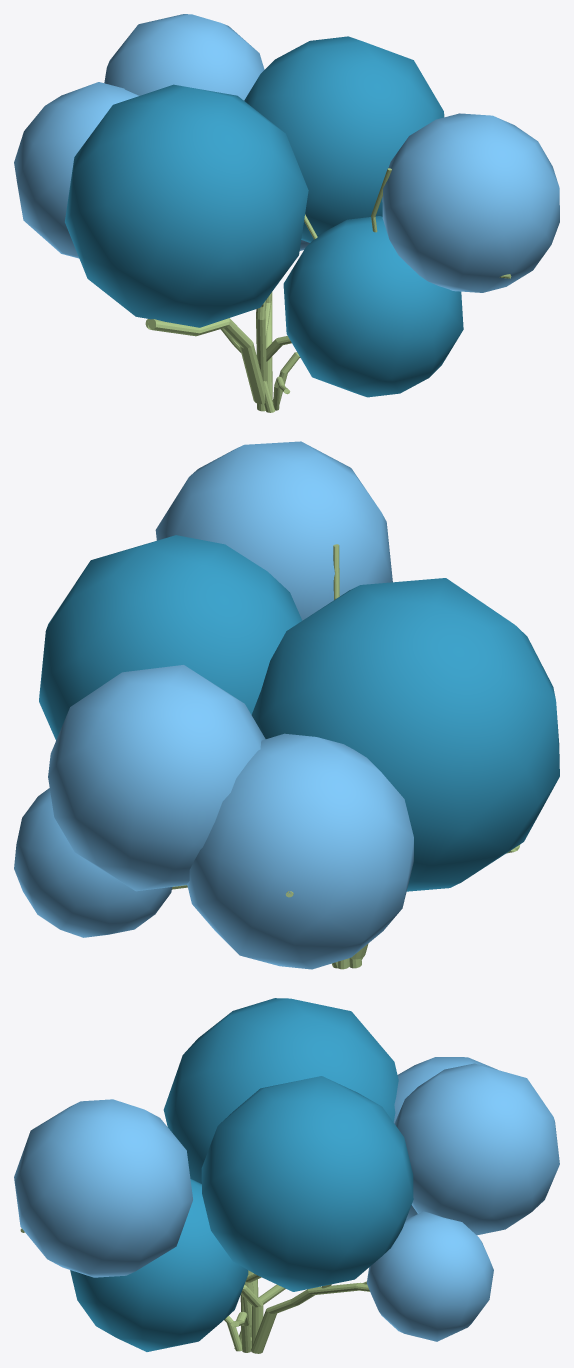
File: tree3_smoother.fbx
The picture shows the model from 3 angles, top to bottom: view 1: azimuth 30°, elevation 25°; view 2: azimuth 150°, elevation 25°; view 3: azimuth 270°, elevation 25°; orthographic projection. The views are drawn at different scales.
Visible parts, largest first — view 1: pPlatonic11, pPlatonic14, pPlatonic13, pPlatonic10, pPlatonic15, pPlatonic12, Branch4; view 2: pPlatonic11, pPlatonic12, pPlatonic15, pPlatonic10, pPlatonic14, pPlatonic16, Branch4; view 3: pPlatonic10, pPlatonic14, pPlatonic15, pPlatonic11, pPlatonic13, pPlatonic16, Branch4, pPlatonic12.
Part boxes in pixels (box(x1,y1,x2,y2)): pPlatonic11: box(65, 84, 308, 327); pPlatonic14: box(382, 113, 559, 292); pPlatonic13: box(283, 216, 463, 397); pPlatonic10: box(244, 36, 444, 242); pPlatonic15: box(104, 14, 264, 100); pPlatonic12: box(14, 82, 138, 258); Branch4: box(145, 168, 511, 412); pPlatonic11: box(251, 578, 559, 891); pPlatonic12: box(187, 733, 413, 969); pPlatonic15: box(48, 665, 265, 891); pPlatonic10: box(39, 535, 302, 740); pPlatonic14: box(155, 441, 392, 620); pPlatonic16: box(14, 788, 172, 937); Branch4: box(172, 544, 520, 969); pPlatonic10: box(201, 1076, 413, 1291); pPlatonic14: box(14, 1099, 192, 1277); pPlatonic15: box(394, 1063, 559, 1235); pPlatonic11: box(163, 998, 398, 1183); pPlatonic13: box(70, 1179, 248, 1351); pPlatonic16: box(366, 1211, 493, 1341); Branch4: box(20, 1228, 369, 1353); pPlatonic12: box(393, 1057, 497, 1219).
Size of the model in its own units: 1217 by 974 by 1545.
